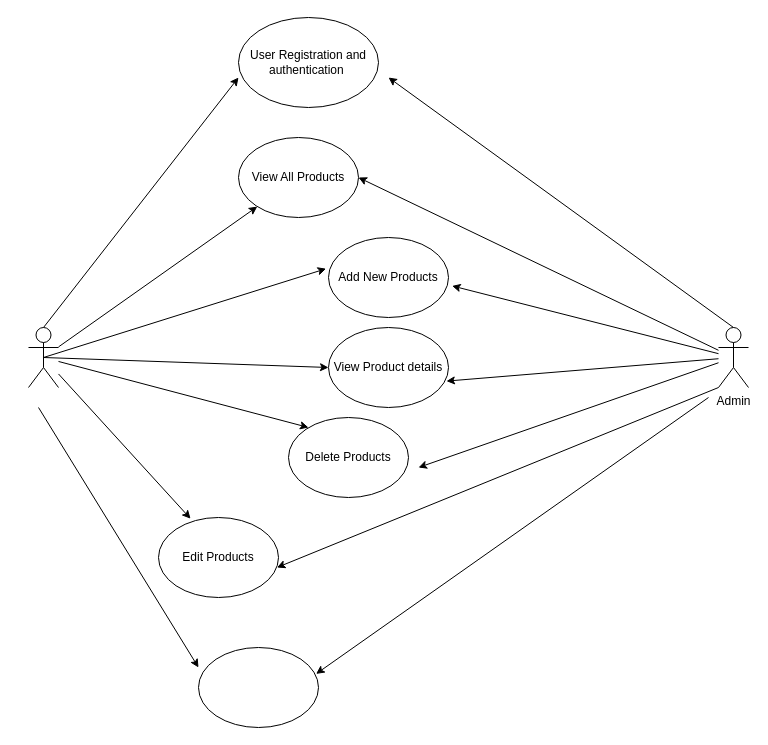
The diagram is 768 pixels wide and 745 high, and some of its shapes have lost their labels. Here are the shapes that lost their labels. From the top down, the centre of each, then its label:
At pixel 43 357: "Customer".
At pixel 258 687: "Customer Support &Services".
